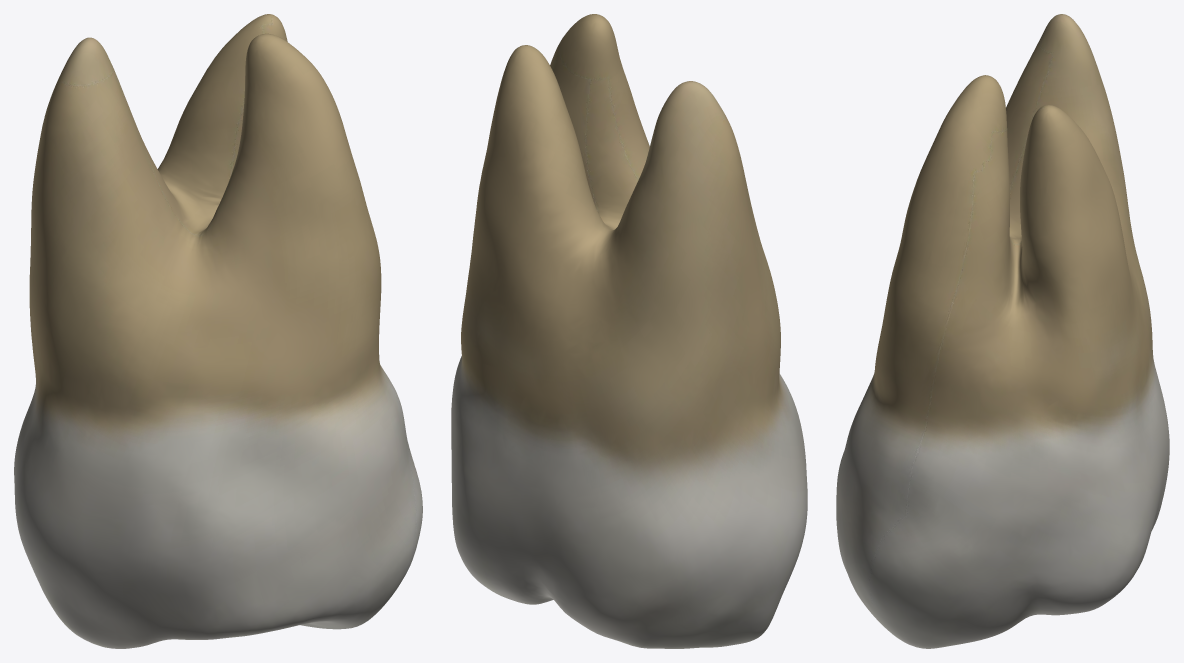
File: maxillary_third_molar.glb
The picture shows the model from 3 angles, left to right: view 1: azimuth 30°, elevation 25°; view 2: azimuth 150°, elevation 25°; view 3: azimuth 270°, elevation 25°; orthographic projection. The views are drawn at different scales.
Parts seen in each view (by area): view 1: Object_2; view 2: Object_2; view 3: Object_2.
Boxes of the visible parts, x1=… form: Object_2: x1=14, y1=14, x2=422, y2=648; Object_2: x1=451, y1=14, x2=807, y2=648; Object_2: x1=836, y1=14, x2=1169, y2=648.
Bounding box in the file's own units: 0.9412 × 1.55 × 0.848.
Materials: 1 (1 with a texture image).
